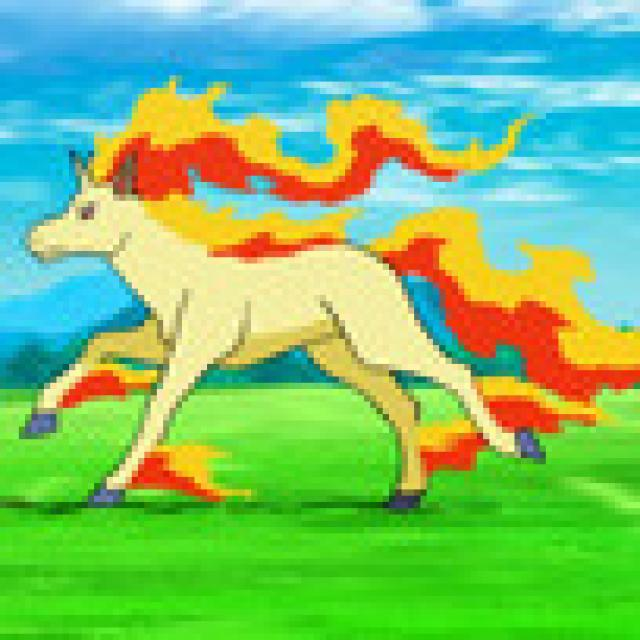Rapidash: (29, 128, 421, 507)
